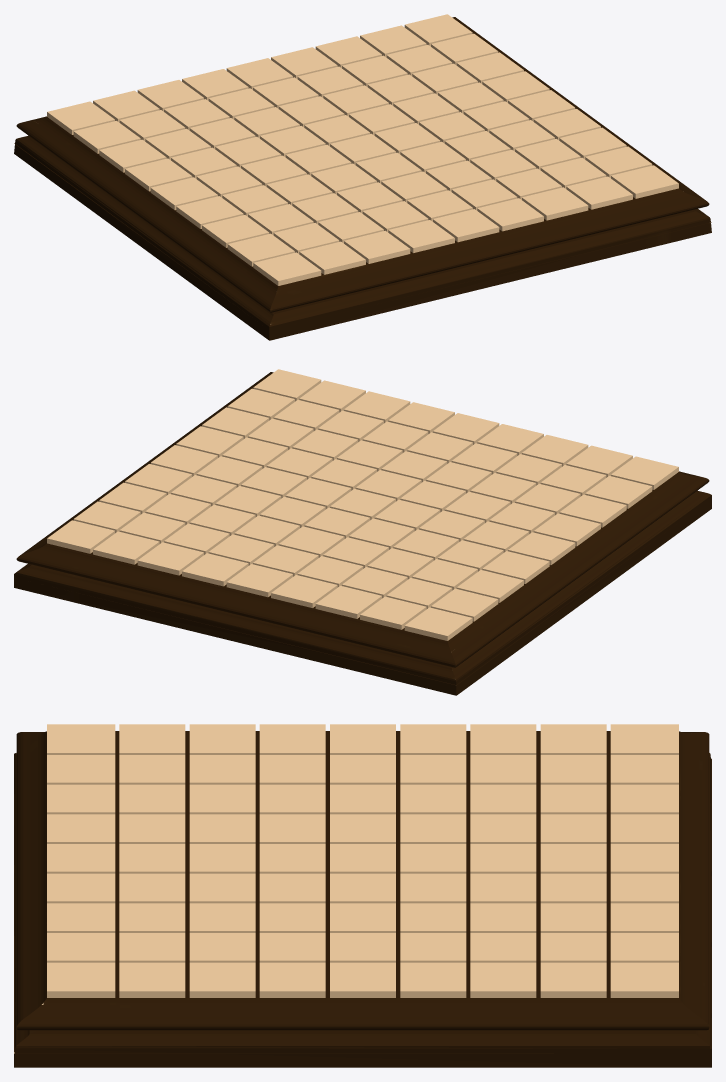
Rendered from plateau.obj.
The picture shows the model from 3 angles, top to bottom: view 1: azimuth 30°, elevation 25°; view 2: azimuth 150°, elevation 25°; view 3: azimuth 270°, elevation 25°; orthographic projection. The views are drawn at different scales.
Parts seen in each view (by area): view 1: Cube; view 2: Cube; view 3: Cube.
Boxes of the visible parts, x1,y1,x2,y2 form: Cube: (14, 14, 711, 340); Cube: (14, 369, 711, 695); Cube: (14, 724, 711, 1067).
Bounding box in the file's own units: 420 × 41.4 × 420.
Materials: 1 (1 with a texture image).
